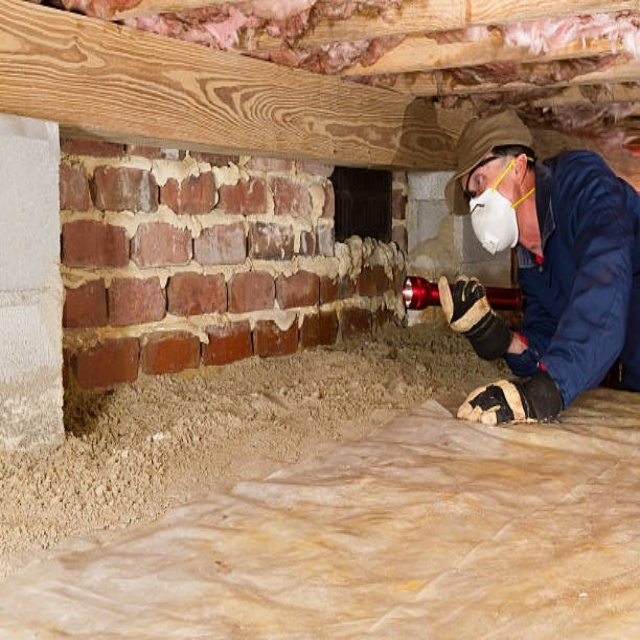Gafas: (461, 144, 503, 207)
Guantes: (440, 274, 514, 362), (457, 376, 561, 426)
Mascara: (468, 179, 528, 253)
